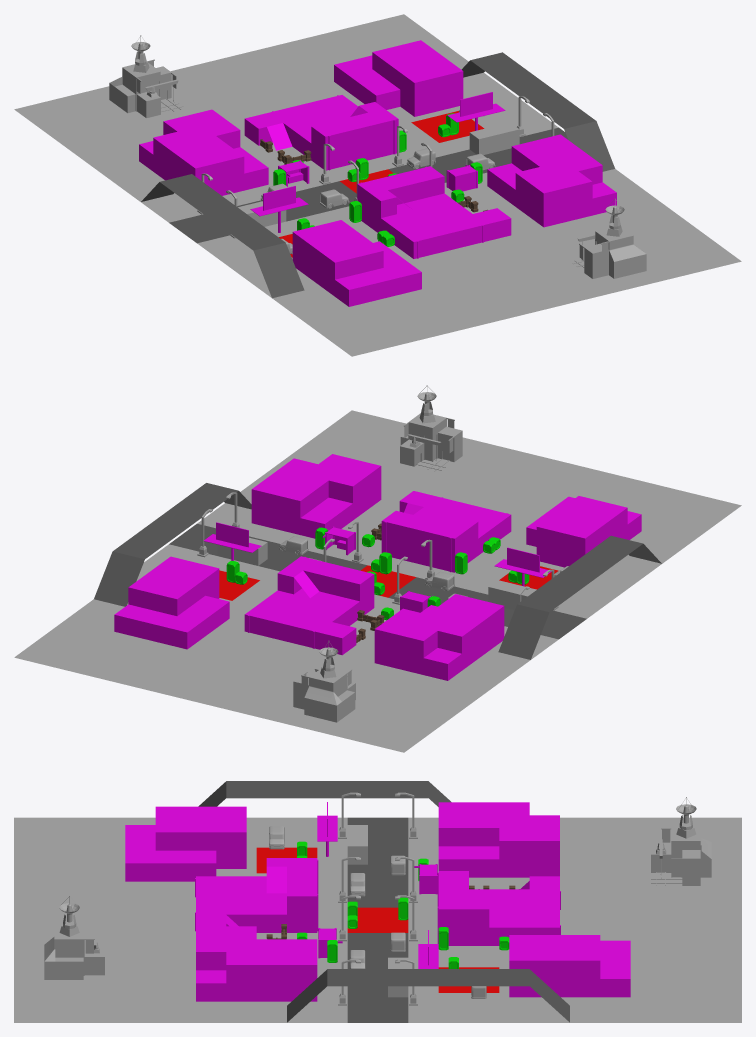
File: city05.fbx
3 views of the same model, one above another, from view 1: azimuth 30°, elevation 25°; view 2: azimuth 150°, elevation 25°; view 3: azimuth 270°, elevation 25° (orthographic). The views are drawn at different scales.
Visible parts, largest first — view 1: pPlane1, pCube8 (×2), pCube14, polySurface2, pCube15, polySurface3, building_base01_polySurface7 (×2), pPlane2, pPlane3, pCube16, pCube12, pCube17 (+1 smaller); view 2: pPlane1, pCube8 (×2), pCube14, pCube15, polySurface3, building_base01_polySurface7 (×2), polySurface2, pPlane2, pPlane3, pCube17, pCube12, pCube13 (+2 smaller); view 3: pPlane1, pCube8 (×2), pCube15, polySurface2, pCube14, polySurface3, building_base01_polySurface7 (×2), pPlane3, pPlane2, pCube13, pCube12, group5_busstop01_pCube3 (+3 smaller).
Part boxes in pixels (x1=…): pPlane1: x1=14, y1=14, x2=741, y2=356; pCube8 (×2): x1=244, y1=95, x2=511, y2=258; pCube14: x1=487, y1=134, x2=616, y2=227; polySurface2: x1=292, y1=220, x2=421, y2=306; pCube15: x1=139, y1=109, x2=268, y2=195; polySurface3: x1=334, y1=40, x2=463, y2=116; building_base01_polySurface7 (×2): x1=109, y1=59, x2=646, y2=278; pPlane2: x1=141, y1=174, x2=304, y2=298; pPlane3: x1=461, y1=52, x2=615, y2=171; pCube16: x1=469, y1=122, x2=519, y2=155; pCube12: x1=250, y1=186, x2=308, y2=232; pCube17: x1=447, y1=92, x2=505, y2=130; pPlane1: x1=14, y1=410, x2=741, y2=752; pCube8 (×2): x1=244, y1=491, x2=511, y2=655; pCube14: x1=251, y1=454, x2=381, y2=538; pCube15: x1=374, y1=594, x2=504, y2=680; polySurface3: x1=114, y1=556, x2=229, y2=649; building_base01_polySurface7 (×2): x1=293, y1=412, x2=462, y2=722; polySurface2: x1=526, y1=496, x2=641, y2=567; pPlane2: x1=498, y1=535, x2=661, y2=659; pPlane3: x1=94, y1=483, x2=251, y2=606; pCube17: x1=204, y1=522, x2=261, y2=560; pCube12: x1=494, y1=547, x2=551, y2=586; pCube13: x1=488, y1=580, x2=536, y2=610; pPlane1: x1=14, y1=817, x2=741, y2=1022; pCube8 (×2): x1=195, y1=858, x2=560, y2=945; pCube15: x1=438, y1=802, x2=559, y2=877; polySurface2: x1=125, y1=806, x2=246, y2=881; pCube14: x1=196, y1=926, x2=317, y2=1001; polySurface3: x1=509, y1=935, x2=630, y2=997; building_base01_polySurface7 (×2): x1=44, y1=827, x2=711, y2=979; pPlane3: x1=287, y1=969, x2=569, y2=1022; pPlane2: x1=198, y1=781, x2=451, y2=806; pCube13: x1=347, y1=825, x2=367, y2=864; pCube12: x1=317, y1=802, x2=337, y2=856; group5_busstop01_pCube3: x1=414, y1=864, x2=437, y2=894.
Size of the model in its own units: 48 by 8.07 by 72.
